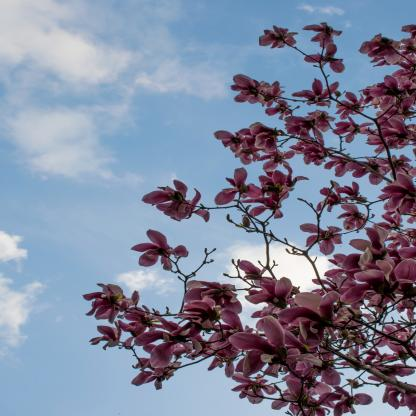Mokuren: (82, 19, 415, 416)
